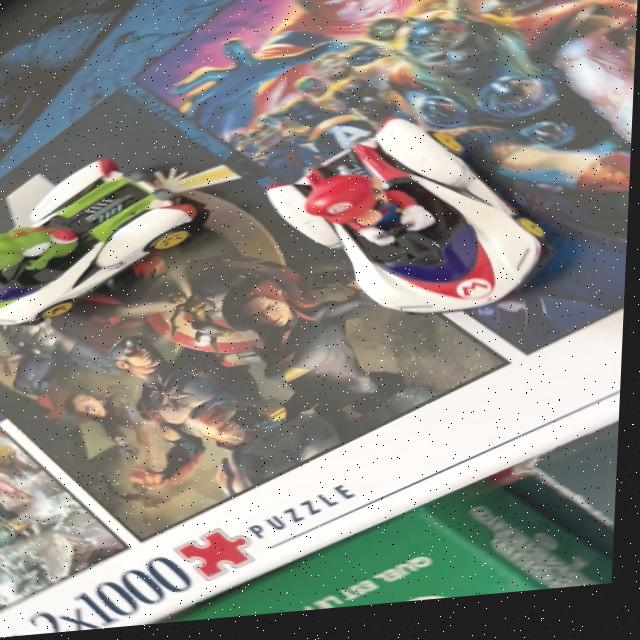mario: (251, 111, 581, 341)
yoshi: (0, 126, 223, 346)
